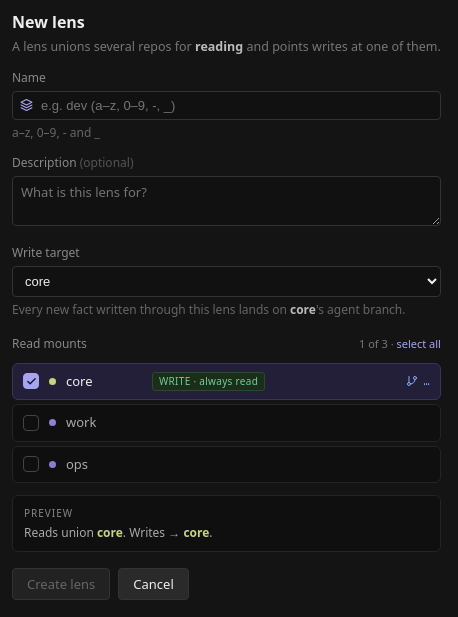
CreateLensForm › shows "available" for a valid, non-colliding name and enables Create
This screenshot has width=458, height=617.
Type "fresh" into the field with test id "lens-name" at (226, 105), box x1=12 y1=90 x2=441 y2=120
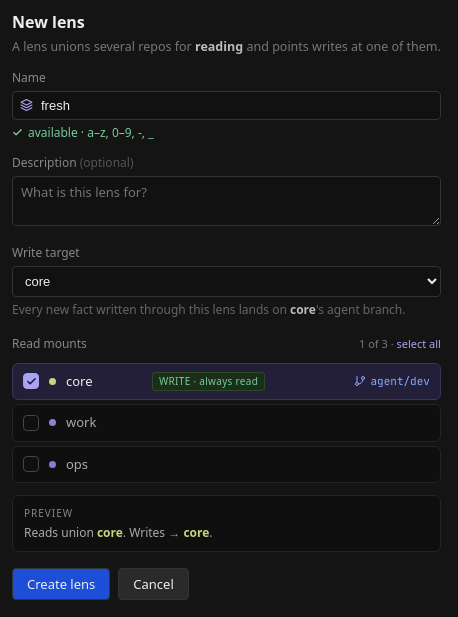
Result: the element with test id "lens-name-status" shows "available" at x1=28 y1=124 x2=154 y2=140
Result: the button with test id "lens-create" is enabled at x1=12 y1=568 x2=110 y2=600
